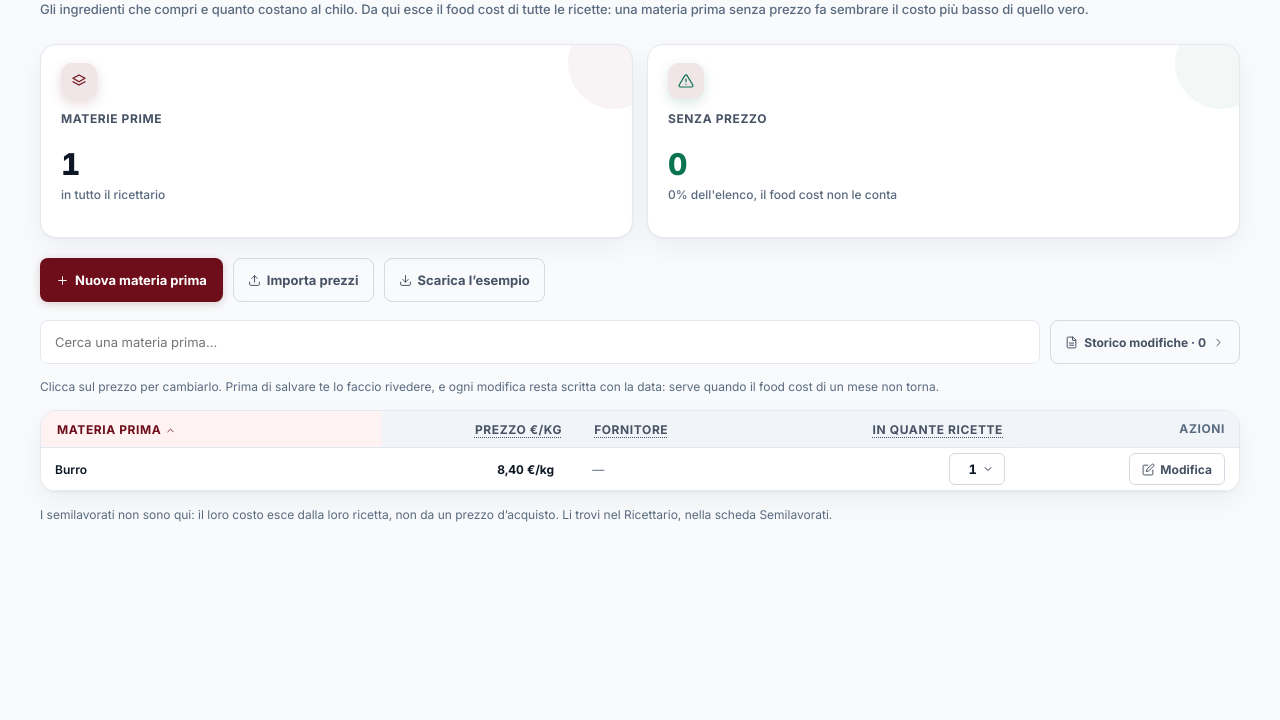
Test: materie prime — due Invio non fanno due scritture › cambiare un prezzo: due Invio, una riga sola nello storico
# Si apre la modifica del prezzo del burro e si conferma.
Click the button "Modifica" at (1177, 469), box [1129,453,1225,485]
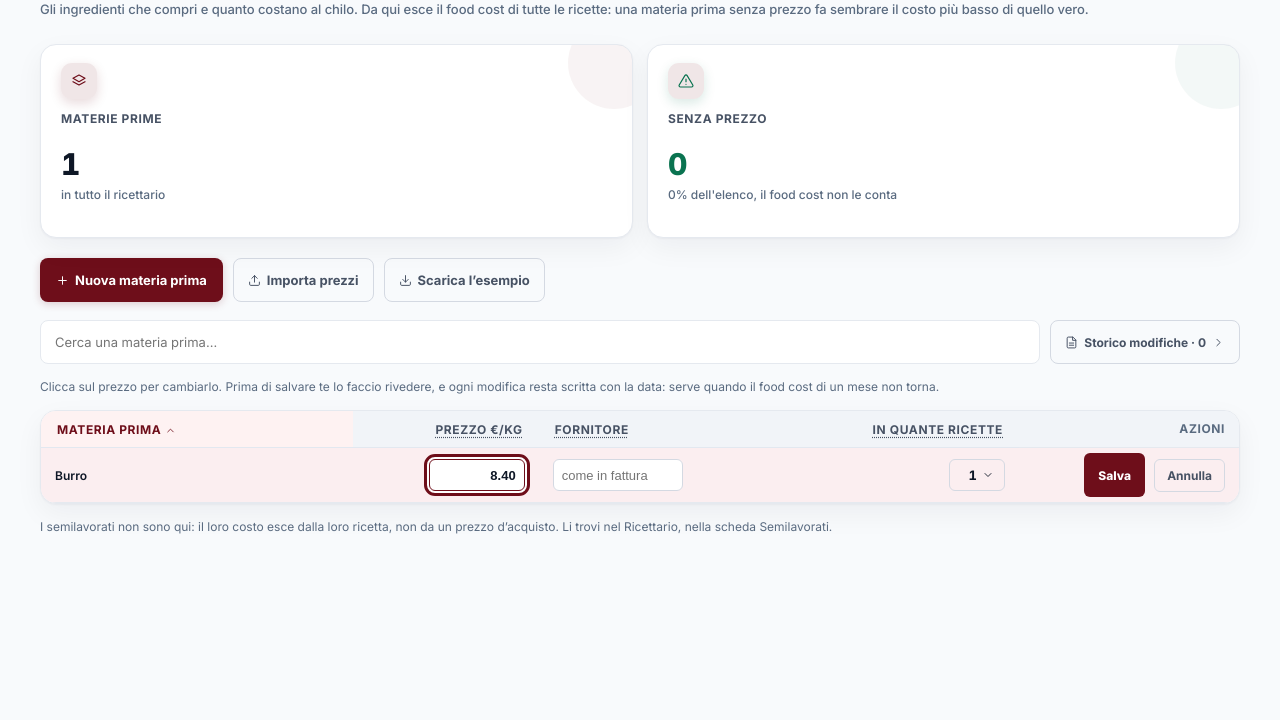
Replace the text in the field named "Prezzo per chilo di burro" with "9,10" at (477, 475), box [429,459,525,491]
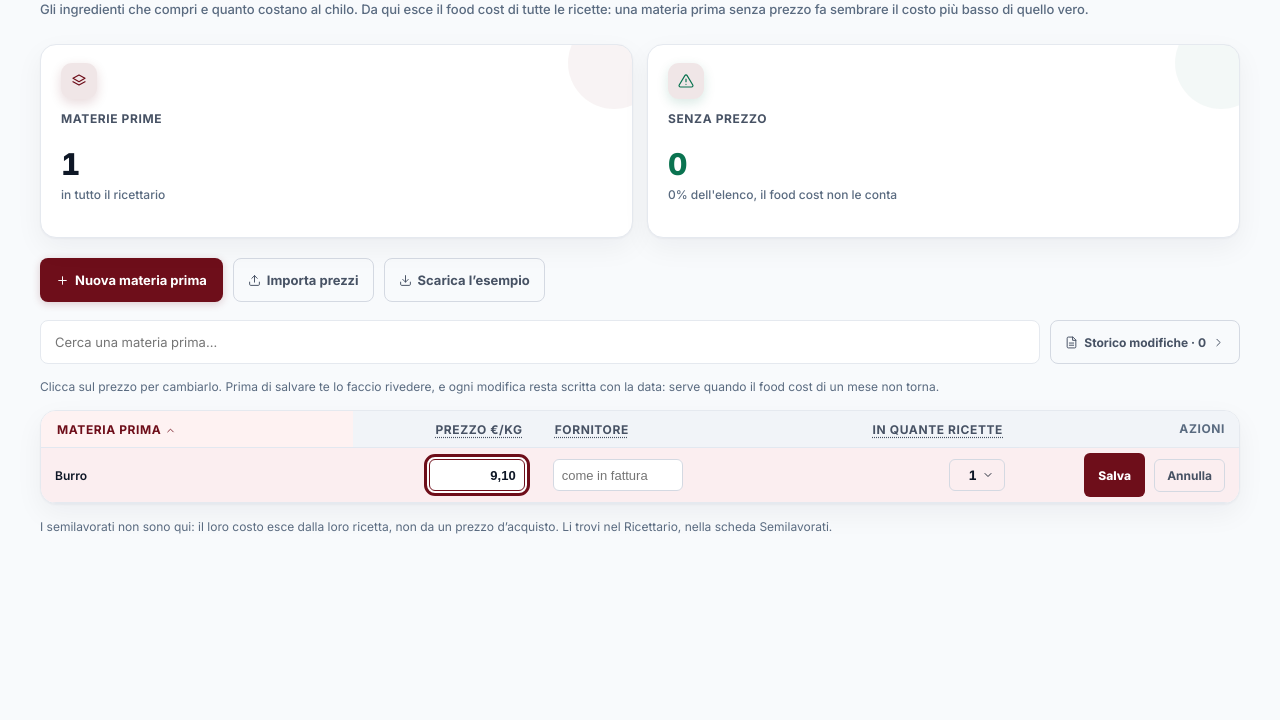
Press Enter in the field named "Prezzo per chilo di burro", box [429,459,525,491]
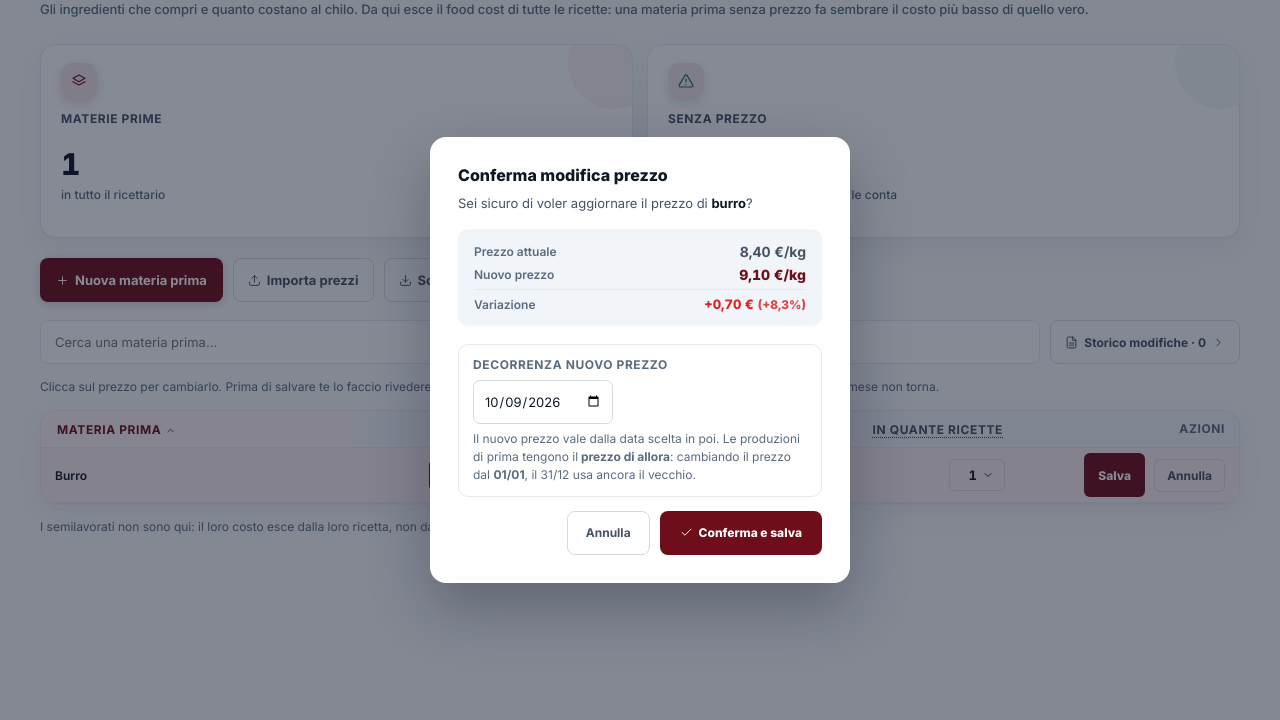
Press Enter in the dialog
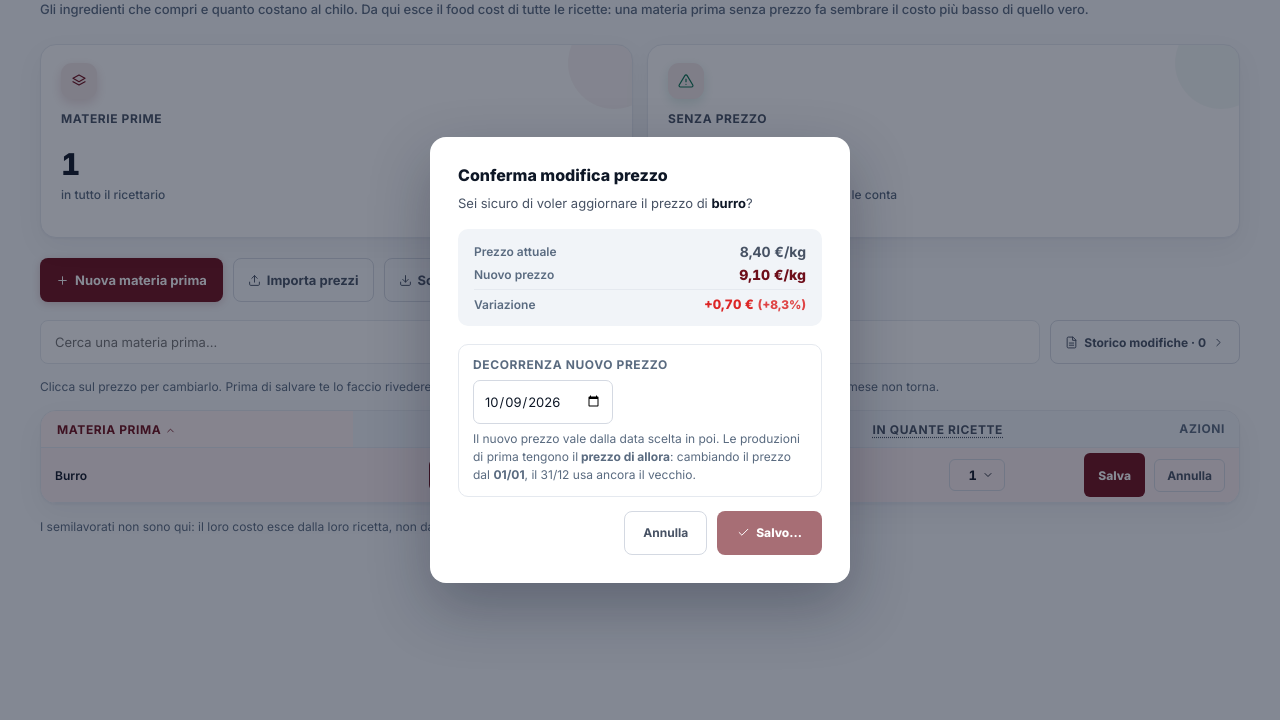
Press Enter in the dialog
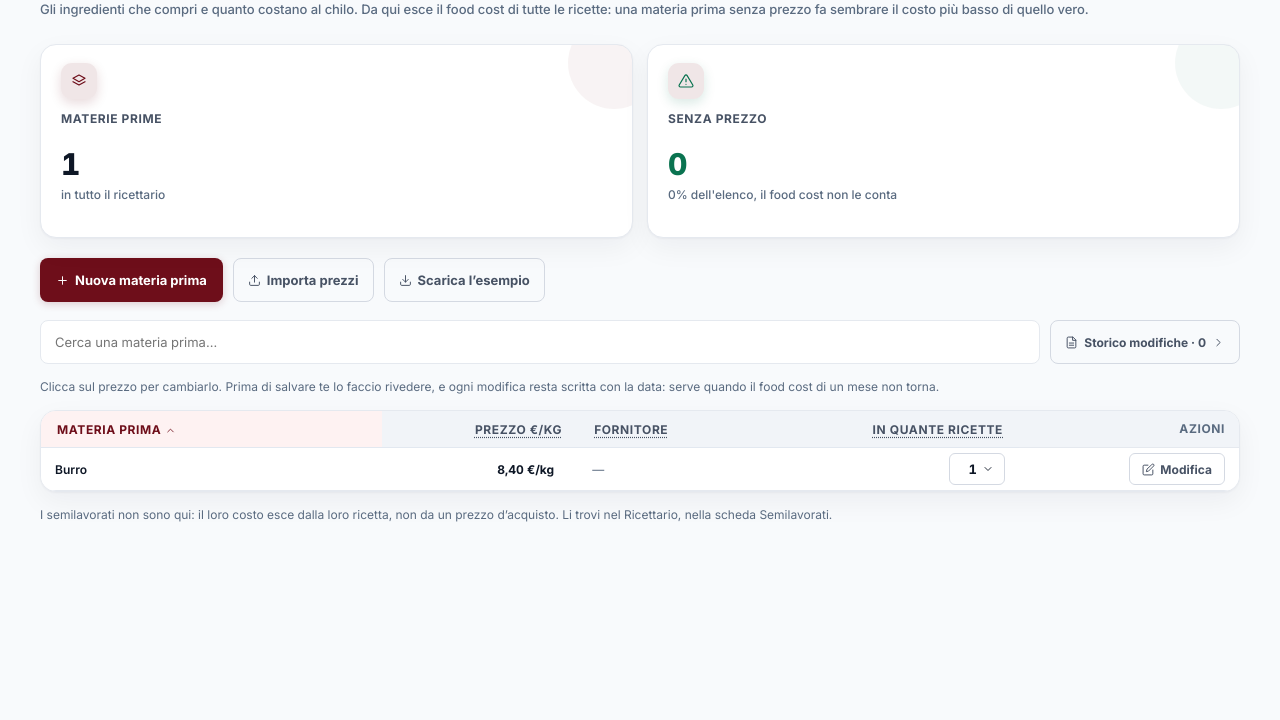
Result: the dialog is gone
